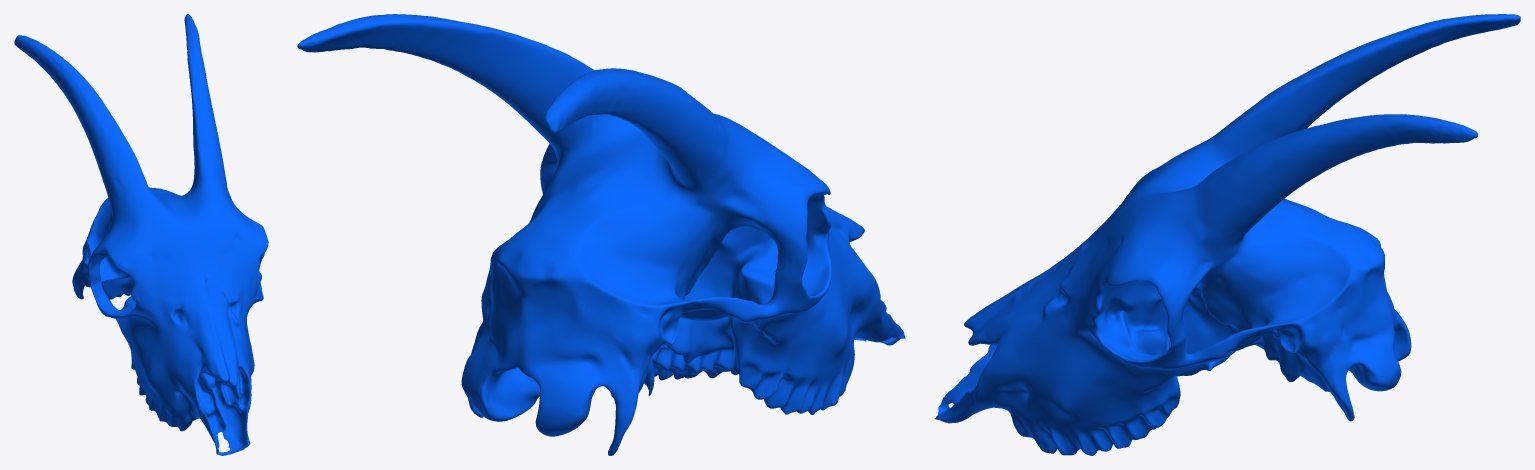
The model's file is skull.glb.
The picture shows the model from 3 angles, left to right: view 1: azimuth 30°, elevation 25°; view 2: azimuth 150°, elevation 25°; view 3: azimuth 270°, elevation 25°; orthographic projection. The views are drawn at different scales.
Visible parts, largest first — view 1: Object_2; view 2: Object_2; view 3: Object_2.
Part boxes in pixels (bbox=[...]): Object_2: bbox=[14, 14, 268, 455]; Object_2: bbox=[297, 14, 905, 455]; Object_2: bbox=[934, 14, 1520, 455].
Size of the model in its own units: 14.32 by 19.65 by 25.99.
